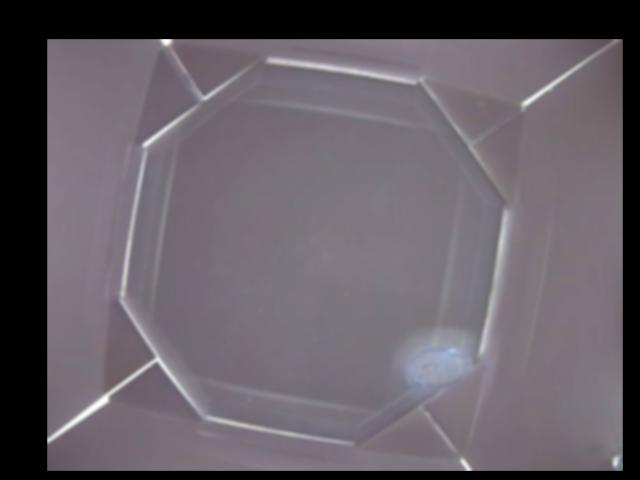Pebble: (406, 344, 471, 398)
